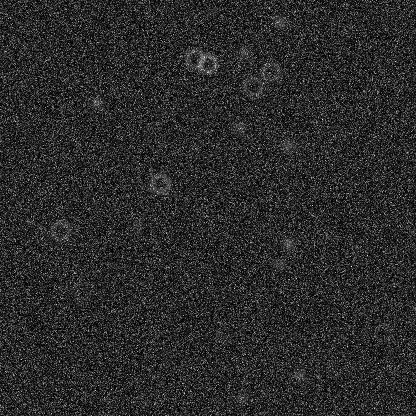Ring: (258, 59, 282, 83), (70, 279, 94, 303), (371, 319, 395, 343), (147, 171, 171, 195), (195, 51, 219, 75), (182, 46, 206, 70), (48, 218, 72, 242), (240, 74, 264, 98)
Spot: (232, 119, 248, 135), (283, 156, 299, 172), (271, 13, 287, 29), (233, 390, 249, 406), (152, 104, 168, 120), (272, 256, 288, 272), (236, 44, 252, 60), (215, 331, 231, 347), (305, 111, 321, 127), (291, 366, 307, 382), (88, 95, 104, 111), (165, 96, 181, 112), (321, 358, 337, 374), (110, 83, 126, 99), (280, 235, 296, 251), (155, 343, 171, 359), (301, 89, 317, 105), (128, 217, 144, 233), (279, 137, 295, 153)
